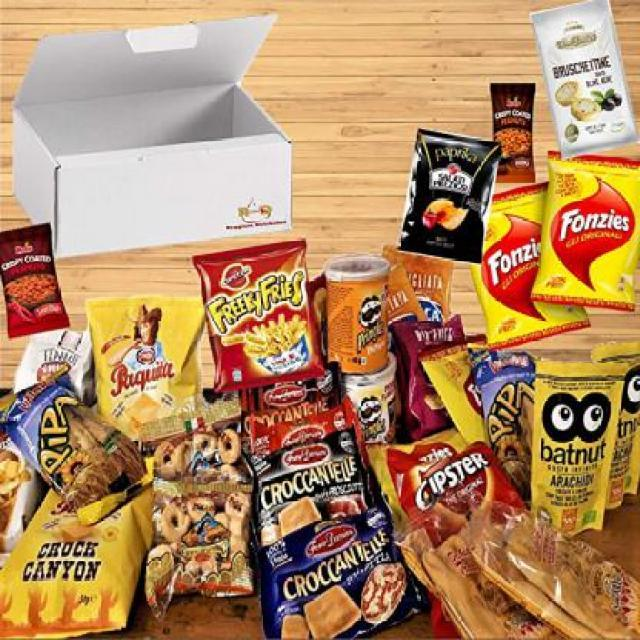Chips: (356, 423, 538, 559), (192, 238, 332, 394), (253, 526, 413, 636), (536, 150, 639, 316), (90, 294, 204, 440), (398, 125, 498, 264), (320, 254, 398, 370)
